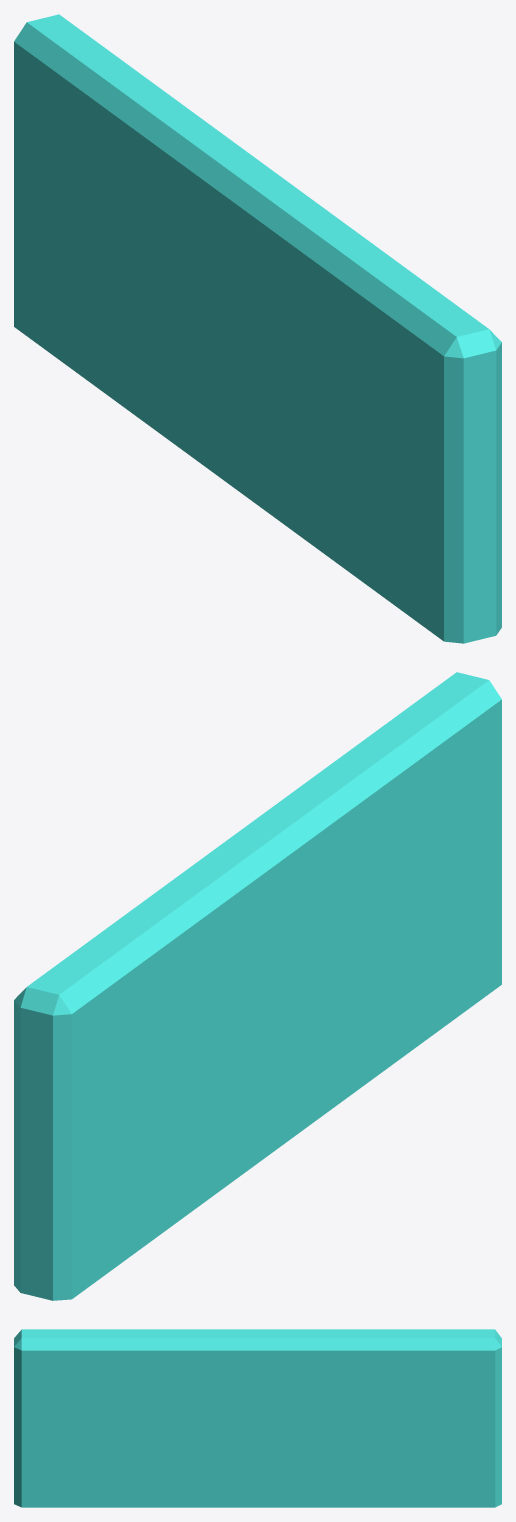
Rendered from fake_hedge.fbx.
The picture shows the model from 3 angles, top to bottom: view 1: azimuth 30°, elevation 25°; view 2: azimuth 150°, elevation 25°; view 3: azimuth 270°, elevation 25°; orthographic projection. The views are drawn at different scales.
Parts seen in each view (by area): view 1: bush_fake_wall; view 2: bush_fake_wall; view 3: bush_fake_wall.
Part boxes in pixels (box(x1,y1,x2,y2)): bush_fake_wall: box(14, 14, 501, 643); bush_fake_wall: box(14, 672, 501, 1300); bush_fake_wall: box(14, 1329, 501, 1507).
Bounding box in the file's own units: 3.76 × 18.72 × 49.89.
